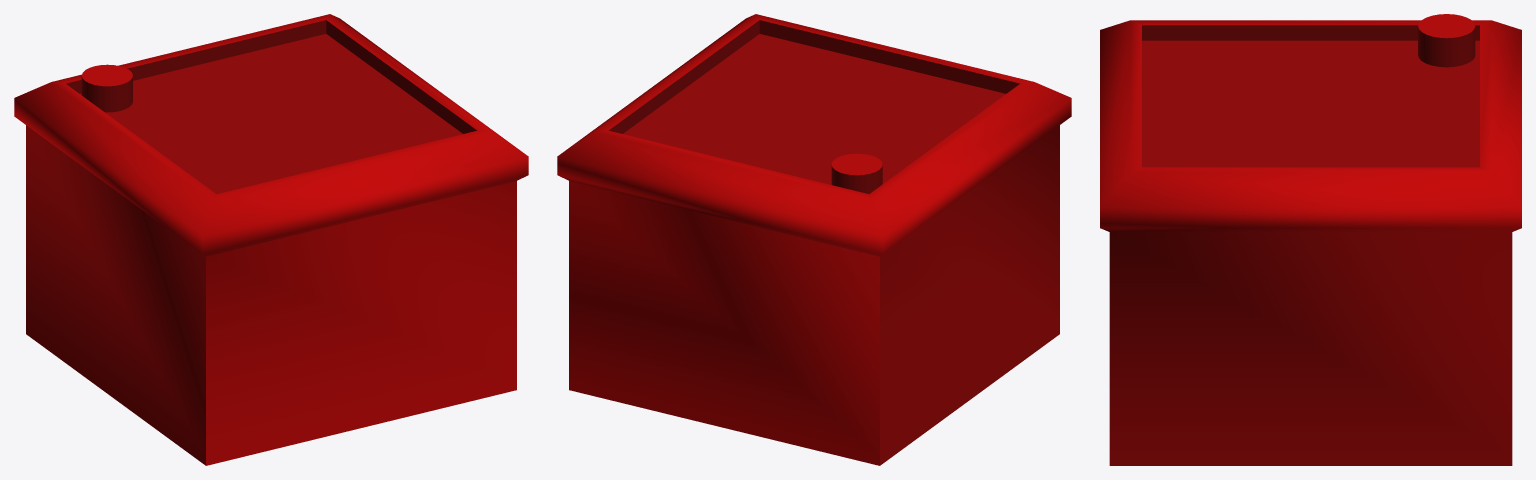
The model's file is buildings-industrial-smallindustrialstructure_v5.fbx.
The picture shows the model from 3 angles, left to right: view 1: azimuth 30°, elevation 25°; view 2: azimuth 150°, elevation 25°; view 3: azimuth 270°, elevation 25°; orthographic projection. The views are drawn at different scales.
Visible parts, largest first — view 1: SmallIndustrialStructure_v5; view 2: SmallIndustrialStructure_v5; view 3: SmallIndustrialStructure_v5.
Boxes of the visible parts, bbox=[...] form: SmallIndustrialStructure_v5: bbox=[14, 14, 528, 465]; SmallIndustrialStructure_v5: bbox=[557, 14, 1071, 465]; SmallIndustrialStructure_v5: bbox=[1100, 14, 1521, 465].
Bounding box in the file's own units: 11.3 × 8.86 × 11.34.
